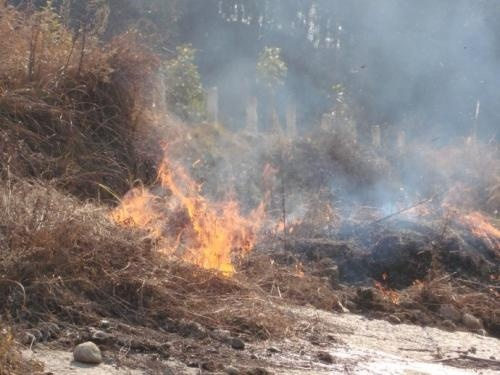fire: (109, 151, 298, 280)
